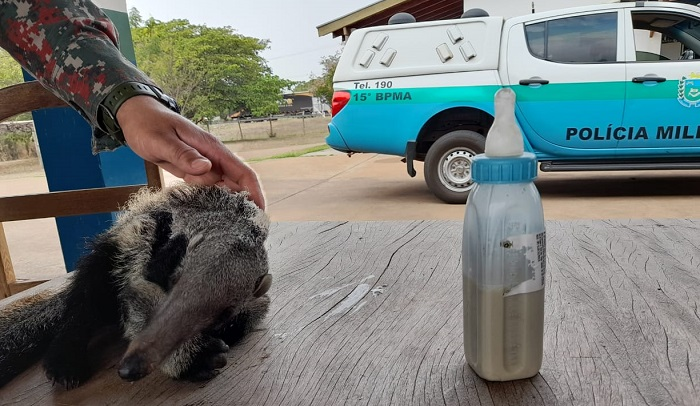TamanduaBandeira: (14, 184, 282, 388)
